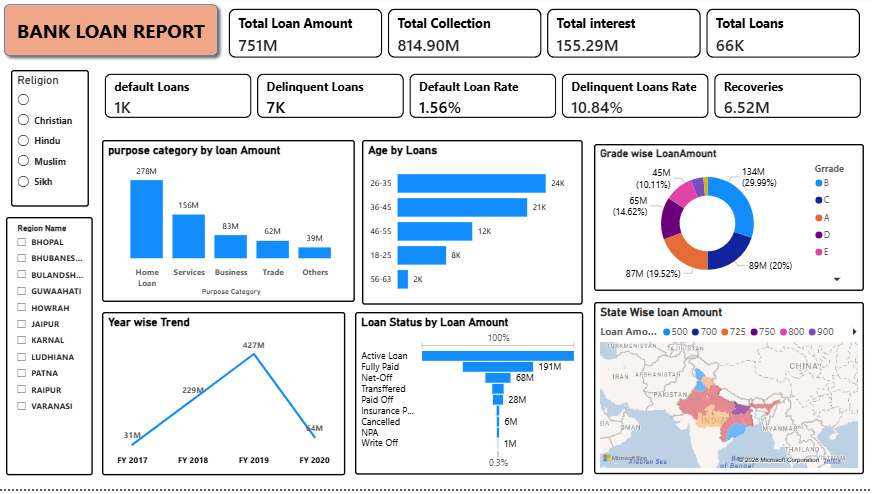

The dashboard page shown, as its layout file describes it:
{"tool":"powerbi","page":{"name":"Page 1","canvas":[1280,720],"ordinal":0},"visuals":[{"type":"filledMap","title":"State Wise loan Amount","fields":{"Category":["Banking Data.State Name"],"Series":["Banking Data.Loan Amount"]},"box":[872.4,446.9,395.1,252.1],"z":0},{"type":"lineChart","title":"Year wise Trend ","fields":{"Category":["Banking Data.Disbursement Date (Years)"],"Y":["Sum(Banking Data.Loan Amount)"]},"box":[152.2,461,355.6,238.5],"z":1000},{"type":"donutChart","title":"Grade wise LoanAmount","fields":{"Category":["Banking Data.Grrade"],"Y":["Sum(Banking Data.Loan Amount)"]},"box":[872.4,214.5,395.1,214.5],"z":2000},{"type":"funnel","title":"Loan Status by Loan Amount","fields":{"Category":["Banking Data.Loan Status"],"Y":["Sum(Banking Data.Loan Amount)"]},"box":[522,461.2,334.3,237.8],"z":3000},{"type":"clusteredBarChart","title":"Age by Loans","fields":{"Category":["Banking Data.Age "],"Y":["Count(Banking Data.Account ID)"]},"box":[532.7,209.3,323.4,241.5],"z":4000},{"type":"columnChart","title":"purpose category by loan Amount","fields":{"Category":["Banking Data.Purpose Category"],"Y":["Sum(Banking Data.Loan Amount)"]},"box":[152.2,209.3,370.2,237.1],"z":5000},{"type":"cardVisual","fields":{"Data":["Banking Data.Total Loan Amount","Banking Data.Total Collection","Banking Data.Total interest","Banking Data.Total Loans"]},"box":[320.5,0,960,106.8],"z":6000},{"type":"cardVisual","fields":{"Data":["Banking Data.Count of Default Loan","Banking Data.Count of Delinquent Clients","Banking Data.Default Loan Rate","Banking Data.Delinquent Loans Rate","Sum(Banking Data.Recoveries)"]},"box":[139,95.1,1141.5,99.5],"z":7000},{"type":"shape","box":[0,1.5,330.7,93.7],"z":7002},{"type":"slicer","fields":{"Values":["Banking Data.Region Name"]},"box":[11.7,322,127.3,377.6],"z":7003},{"type":"listSlicer","fields":{"Values":["Banking Data.Religion"]},"box":[19,106.8,114.1,200.5],"z":7004}]}

Visuals, with their boxes in screenshot pixels (x1, y1, x2, y2), scaled from the page's 1280x720 canvas onto the 872x494 screenshot:
"State Wise loan Amount" filledMap: bbox(594, 307, 863, 480)
"Year wise Trend " lineChart: bbox(104, 316, 346, 480)
"Grade wise LoanAmount" donutChart: bbox(594, 147, 863, 294)
"Loan Status by Loan Amount" funnel: bbox(356, 316, 583, 480)
"Age by Loans" clusteredBarChart: bbox(363, 144, 583, 309)
"purpose category by loan Amount" columnChart: bbox(104, 144, 356, 306)
cardVisual - Banking Data.Total Loan Amount x Banking Data.Total Collection: bbox(218, 0, 871, 73)
cardVisual - Banking Data.Count of Default Loan x Banking Data.Count of Delinquent Clients: bbox(95, 65, 871, 134)
shape: bbox(0, 1, 225, 65)
slicer - Banking Data.Region Name: bbox(8, 221, 95, 480)
listSlicer - Banking Data.Religion: bbox(13, 73, 91, 211)
